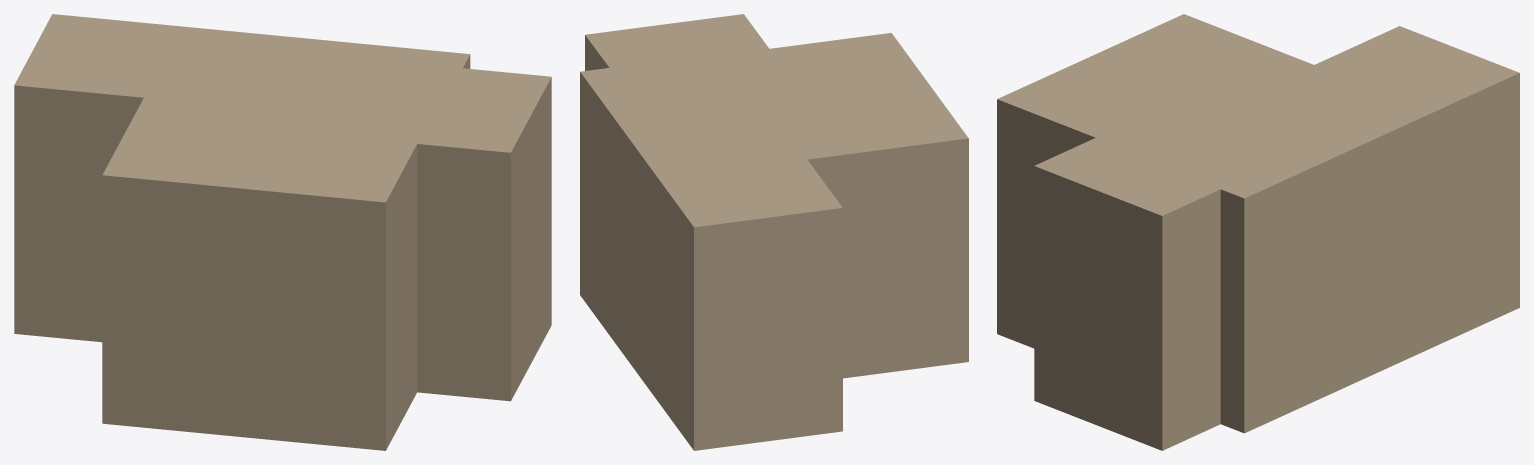
File: bld_106339032.dae
3 renders of one model, left to right at view 1: azimuth 30°, elevation 25°; view 2: azimuth 150°, elevation 25°; view 3: azimuth 270°, elevation 25°, orthographic. The views are drawn at different scales.
Visible parts, largest first — view 1: bld_106339032; view 2: bld_106339032; view 3: bld_106339032.
Boxes of the visible parts, x1,y1,x2,y2 form: bld_106339032: (14, 14, 551, 450); bld_106339032: (580, 14, 968, 450); bld_106339032: (997, 14, 1519, 450).
Size of the model in its own units: 14.76 by 16.14 by 8.
